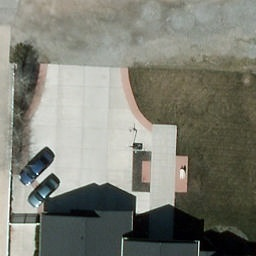car: (20, 150, 57, 189), (26, 176, 61, 207)
